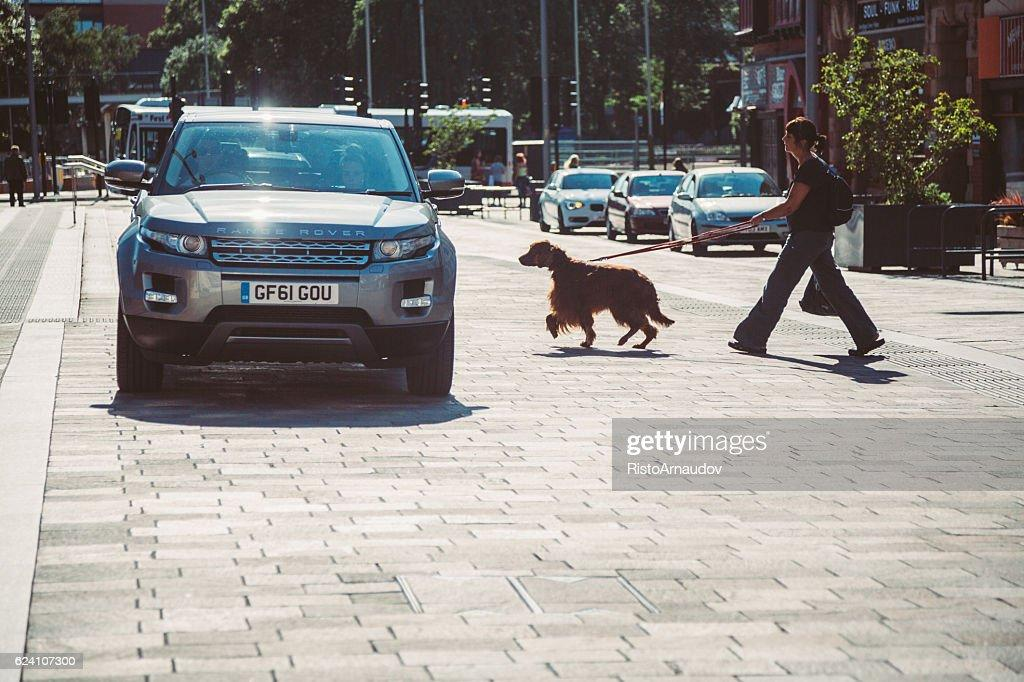range rover: (214, 222, 371, 245)
